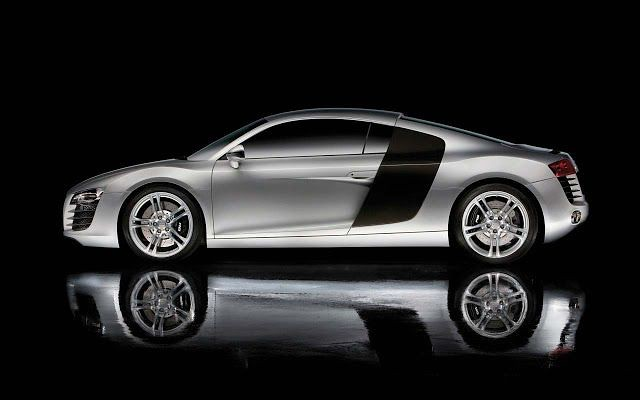car: (56, 106, 585, 271)
